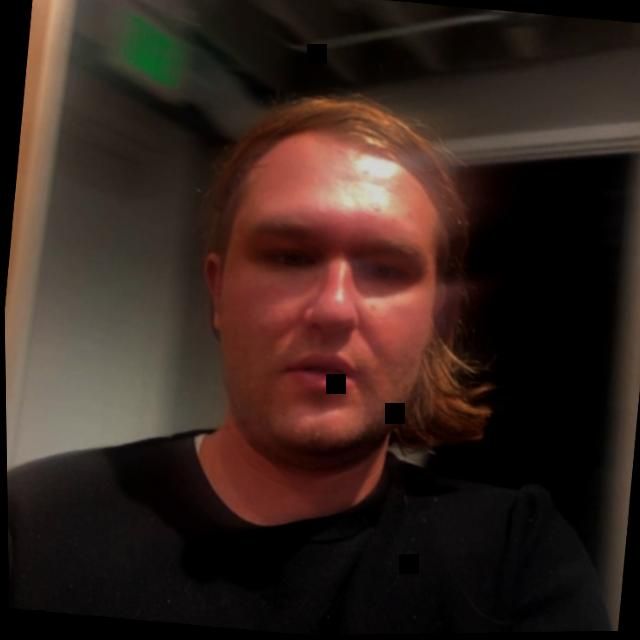NO-Mask: (176, 74, 524, 576)
